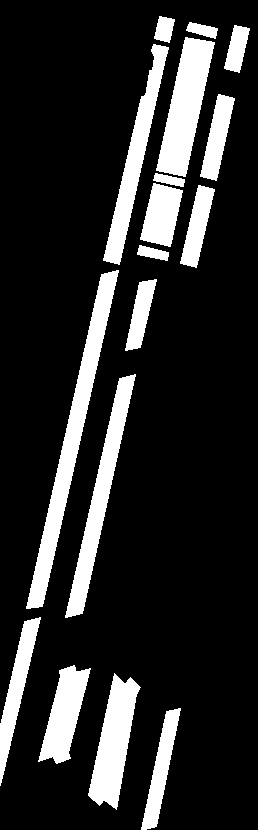parkingspot: (26, 270, 118, 608), (65, 374, 135, 617), (103, 50, 166, 264), (156, 37, 214, 176), (0, 617, 40, 785), (88, 673, 125, 805), (141, 708, 180, 830), (104, 677, 140, 809), (38, 665, 76, 761), (52, 668, 90, 763), (200, 94, 234, 180), (180, 185, 214, 267), (140, 183, 182, 246), (125, 279, 156, 350), (224, 25, 249, 72), (154, 16, 174, 42), (186, 22, 217, 38), (137, 245, 168, 260), (153, 173, 184, 186), (151, 44, 168, 55)
